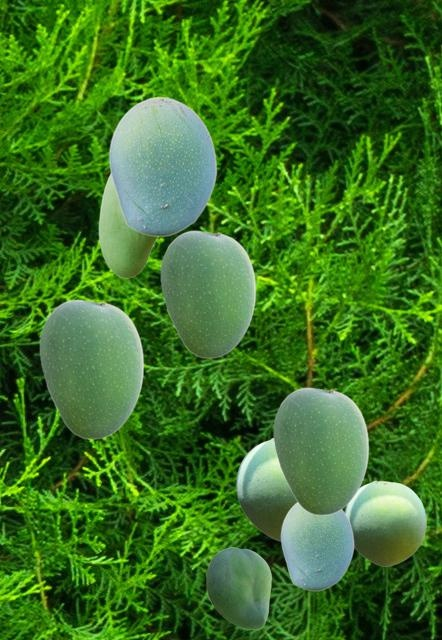green_mango: (108, 96, 216, 236), (39, 299, 143, 438), (160, 230, 255, 357), (273, 387, 368, 514), (344, 480, 425, 565), (280, 502, 353, 590), (98, 174, 158, 277), (236, 437, 295, 541), (206, 547, 270, 628)
